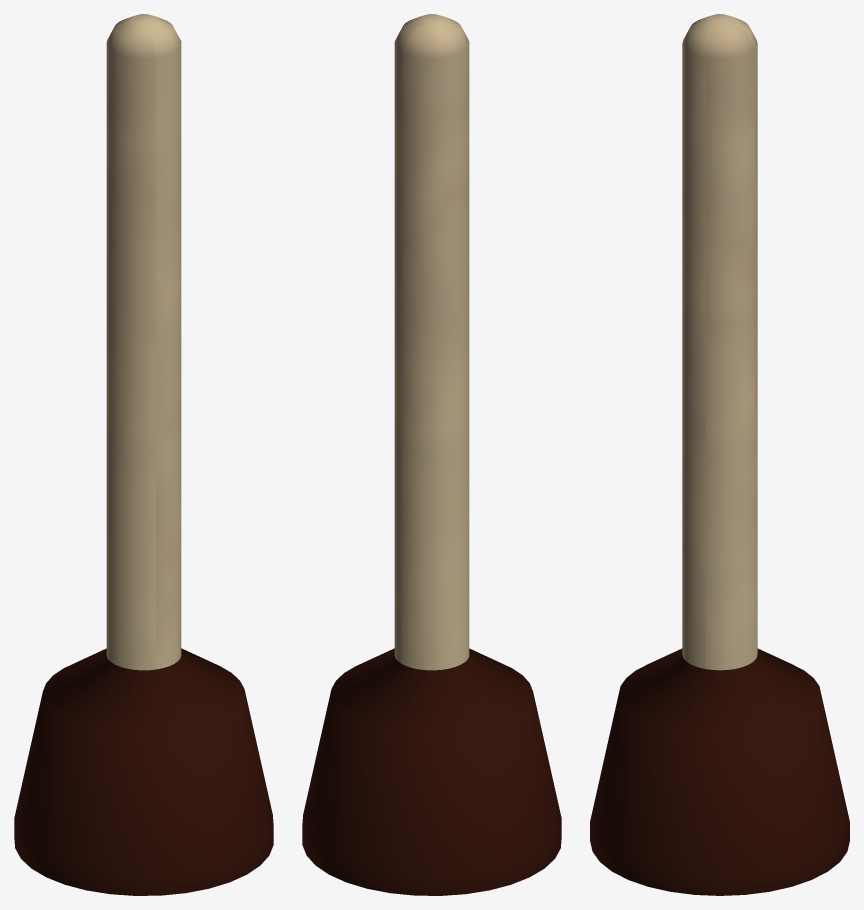
The model's file is Plunger.fbx.
3 renders of one model, left to right at view 1: azimuth 30°, elevation 25°; view 2: azimuth 150°, elevation 25°; view 3: azimuth 270°, elevation 25°, orthographic.
Visible parts, largest first — view 1: Cylinder.000; view 2: Cylinder.000; view 3: Cylinder.000.
Boxes of the visible parts, x1,y1,x2,y2 form: Cylinder.000: (14,14,273,895); Cylinder.000: (302,14,561,895); Cylinder.000: (590,14,849,895).
Bounding box in the file's own units: 42.3 × 148 × 42.3.
